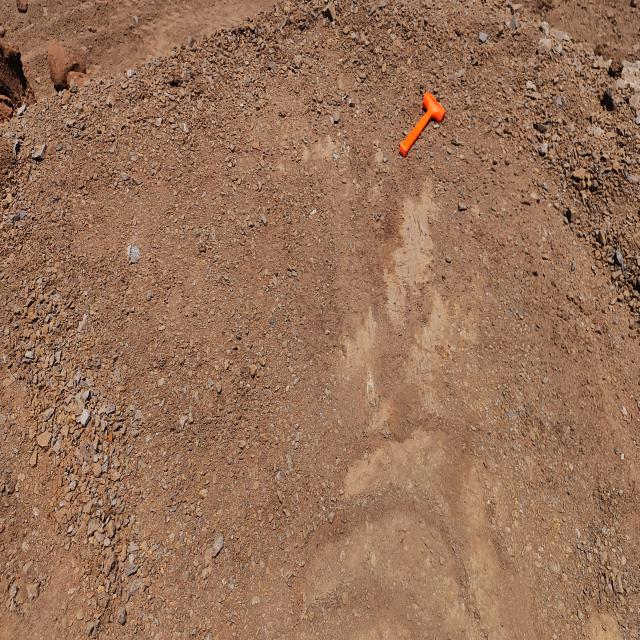Orange_hammer: (398, 90, 446, 158)
